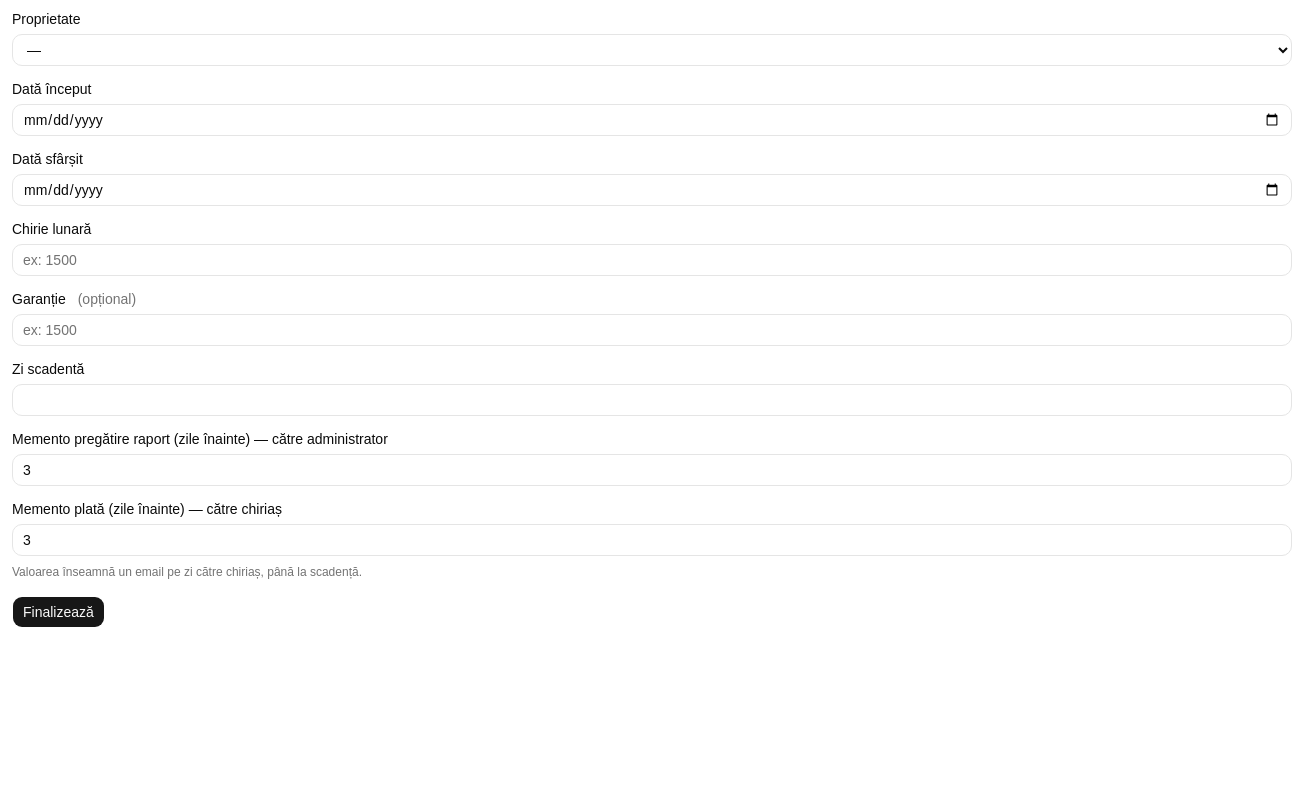
StepContract — persists Step 4 fields before finalizing (autosave gap) › does not autosave when local validation fails — nothing valid to persist
The image size is (1304, 812).
Click the button "Finalizează": (58, 612) [12,596,105,628]
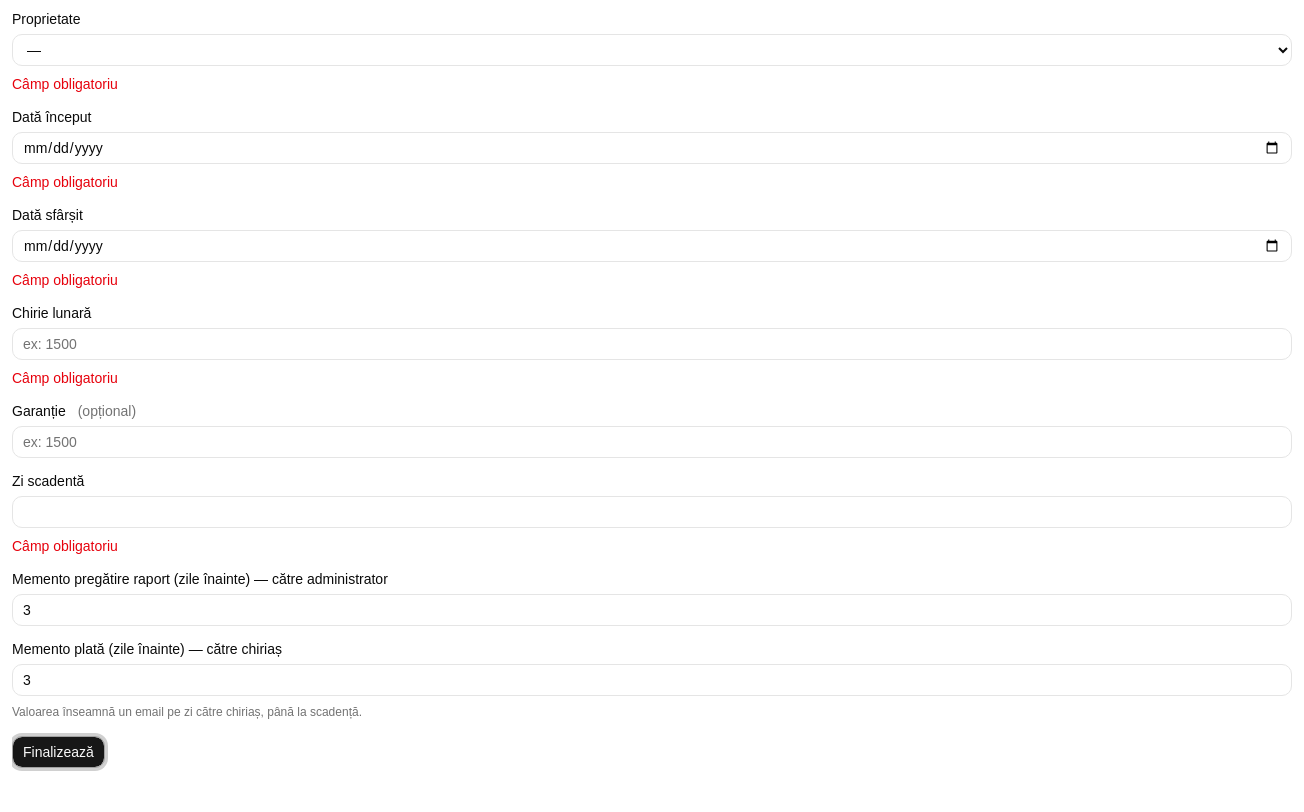
Check: the text "Câmp obligatoriu" below "Proprietate" is shown, box [12,76,118,92]
